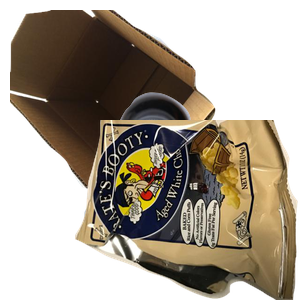cardboard: (10, 10, 218, 190)
glass: (115, 90, 300, 270)
plastic: (81, 179, 239, 300)
trash: (75, 120, 300, 300)
